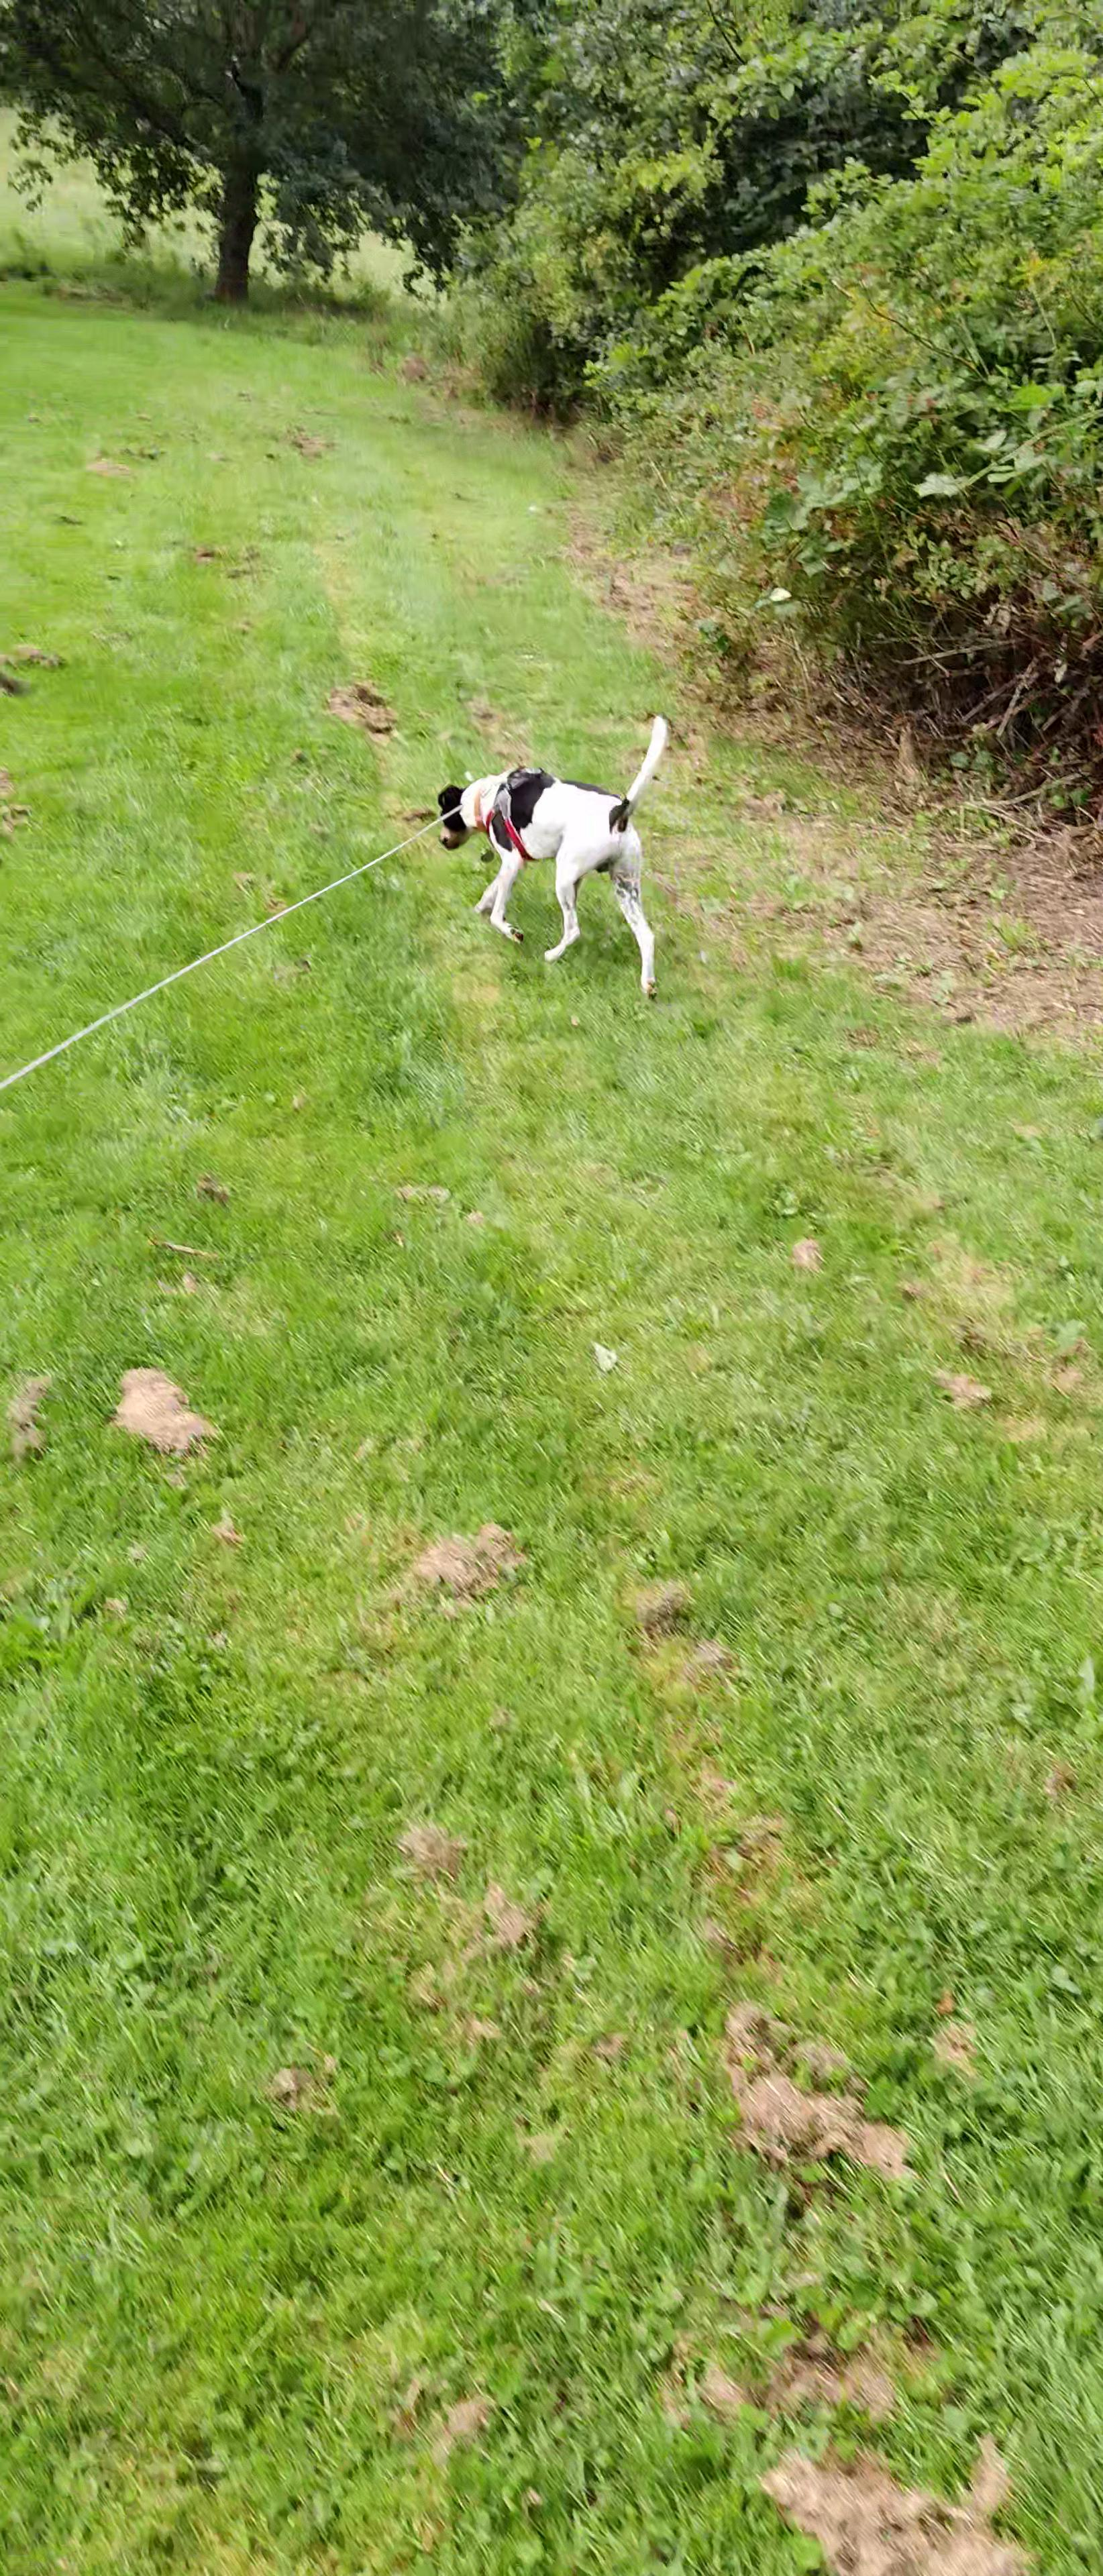Dog: (426, 706, 685, 1004)
